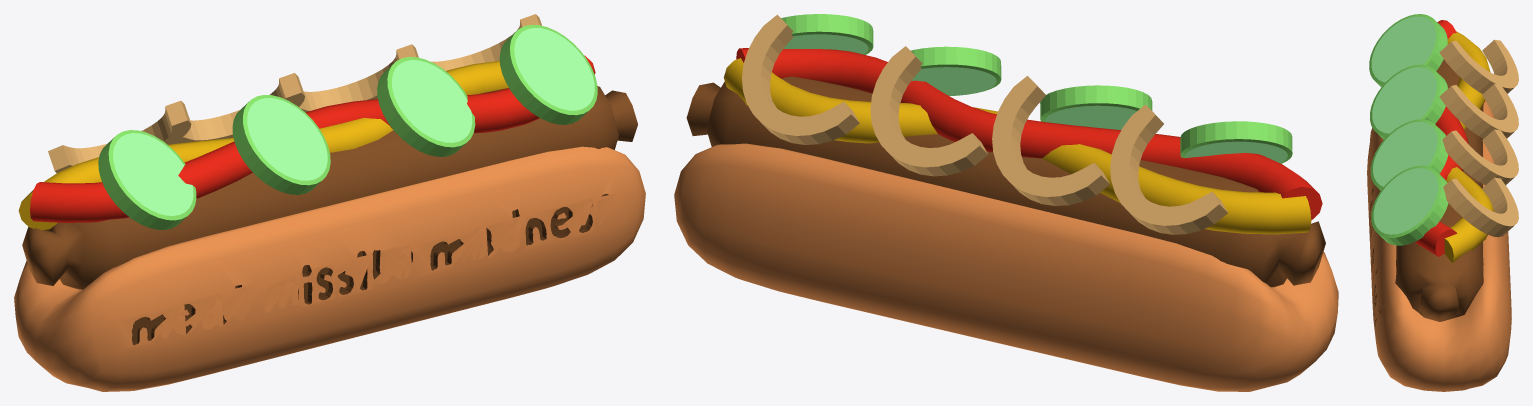
Rendered from TitleHotdog.fbx.
3 renders of one model, left to right at view 1: azimuth 30°, elevation 25°; view 2: azimuth 150°, elevation 25°; view 3: azimuth 270°, elevation 25°, orthographic. The views are drawn at different scales.
Parts seen in each view (by area): view 1: Single Bun.002, Pickles.002, hotdog.001, Ketchup.002, Onions.002, Mustard.002; view 2: Single Bun.002, Onions.002, hotdog.001, Pickles.002, Ketchup.002, Mustard.002; view 3: Pickles.002, Single Bun.002, Onions.002, hotdog.001, Mustard.002, Ketchup.002.
Boxes of the visible parts, bbox=[...] form: Single Bun.002: bbox=[14, 146, 645, 391]; Pickles.002: bbox=[98, 24, 597, 229]; hotdog.001: bbox=[22, 86, 637, 289]; Ketchup.002: bbox=[30, 55, 595, 222]; Onions.002: bbox=[48, 14, 541, 172]; Mustard.002: bbox=[18, 61, 508, 230]; Single Bun.002: bbox=[674, 143, 1338, 391]; Onions.002: bbox=[742, 14, 1227, 234]; hotdog.001: bbox=[686, 76, 1325, 287]; Pickles.002: bbox=[781, 14, 1292, 163]; Ketchup.002: bbox=[736, 48, 1322, 220]; Mustard.002: bbox=[723, 58, 1311, 234]; Pickles.002: bbox=[1369, 14, 1448, 245]; Single Bun.002: bbox=[1367, 100, 1511, 391]; Onions.002: bbox=[1439, 39, 1518, 237]; hotdog.001: bbox=[1395, 59, 1483, 321]; Mustard.002: bbox=[1444, 31, 1493, 262]; Ketchup.002: bbox=[1415, 20, 1468, 256].
Bounding box in the file's own units: 353 × 140 × 96.48.
